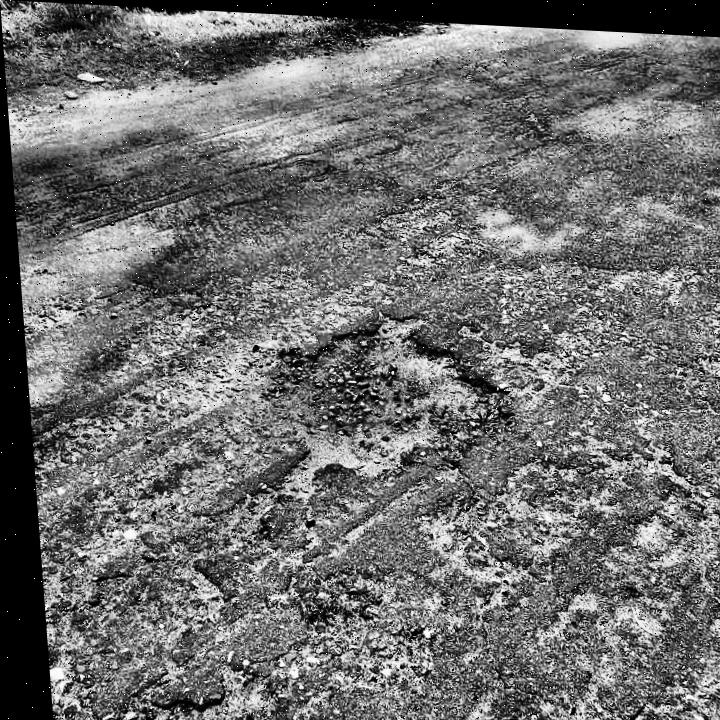pothole: (232, 299, 513, 483), (113, 660, 278, 720)
